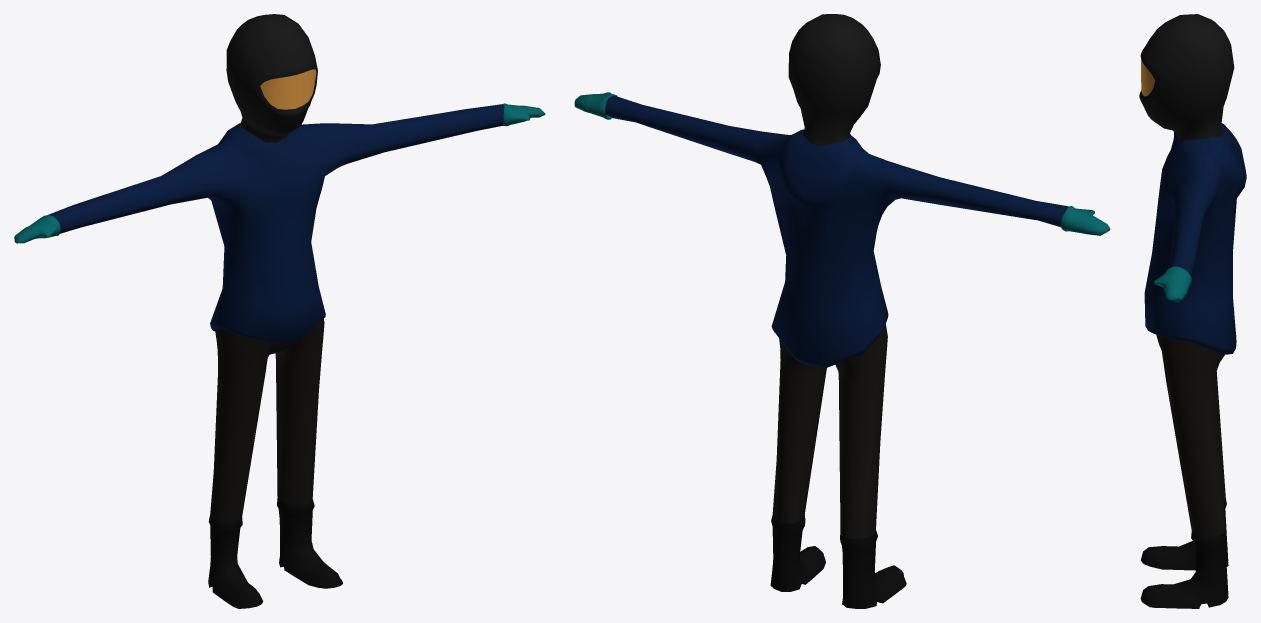
Rendered from Balaclava_Kid.FBX.
The picture shows the model from 3 angles, left to right: view 1: azimuth 30°, elevation 25°; view 2: azimuth 150°, elevation 25°; view 3: azimuth 270°, elevation 25°; orthographic projection.
Visible parts, largest first — view 1: Hoodie; view 2: Hoodie; view 3: Hoodie.
Boxes of the visible parts, left/top/right/bottom form: Hoodie: left=14, top=14, right=545, bottom=608; Hoodie: left=574, top=14, right=1110, bottom=608; Hoodie: left=1139, top=14, right=1246, bottom=608.
Bounding box in the file's own units: 217 × 221 × 38.19.
